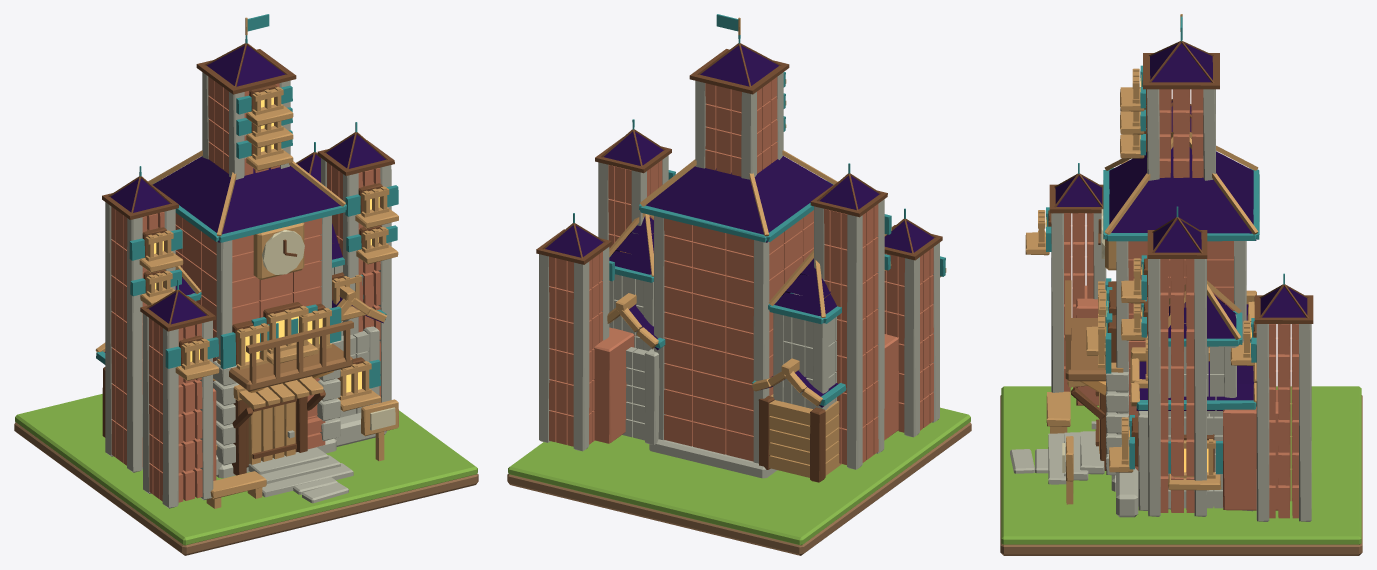
The model's file is town_hall_l15_active_LOD1.glb.
3 views of the same model, side by side, from view 1: azimuth 30°, elevation 25°; view 2: azimuth 150°, elevation 25°; view 3: azimuth 270°, elevation 25° (orthographic). The views are drawn at different scales.
Visible parts, largest first — view 1: town_hall_l15_active_foundation.001, town_hall_l15_active_grass_tile.001, town_hall_l15_active_earth_tile.001, town_hall_l15_active_path_stone.005; view 2: town_hall_l15_active_foundation.001, town_hall_l15_active_grass_tile.001, town_hall_l15_active_earth_tile.001; view 3: town_hall_l15_active_foundation.001, town_hall_l15_active_grass_tile.001, town_hall_l15_active_earth_tile.001, town_hall_l15_active_path_stone.005.
Part boxes in pixels (box(x1,y1,x2,y2)): town_hall_l15_active_foundation.001: box(95, 14, 398, 508); town_hall_l15_active_grass_tile.001: box(15, 394, 477, 545); town_hall_l15_active_earth_tile.001: box(14, 422, 478, 555); town_hall_l15_active_path_stone.005: box(302, 482, 348, 503); town_hall_l15_active_foundation.001: box(536, 14, 946, 482); town_hall_l15_active_grass_tile.001: box(508, 407, 970, 545); town_hall_l15_active_earth_tile.001: box(507, 422, 971, 555); town_hall_l15_active_foundation.001: box(1025, 14, 1313, 521); town_hall_l15_active_grass_tile.001: box(1001, 386, 1361, 544); town_hall_l15_active_earth_tile.001: box(1000, 395, 1362, 555); town_hall_l15_active_path_stone.005: box(1010, 449, 1034, 473).
Bounding box in the file's own units: 3.6 × 5.12 × 3.6.
